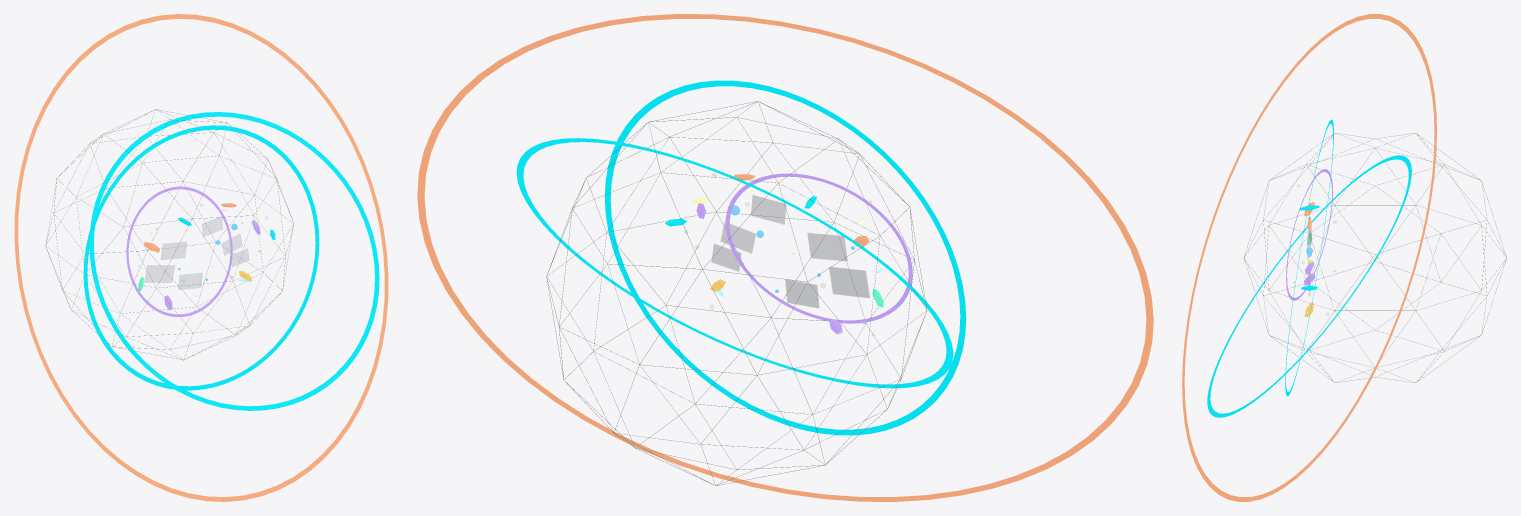
Rendered from widegy-scene.glb.
3 renders of one model, left to right at view 1: azimuth 30°, elevation 25°; view 2: azimuth 150°, elevation 25°; view 3: azimuth 270°, elevation 25°, orthographic. The views are drawn at different scales.
Visible parts, largest first — view 1: Ring_01, Ring_03, Ring_00, BackdropIcosa, Ring_02, GlassCard_04; view 2: Ring_01, BackdropIcosa, Ring_00, Ring_03, Ring_02, GlassCard_04, GlassCard_00; view 3: Ring_01, BackdropIcosa, Ring_03, Ring_00, Ring_02.
Part boxes in pixels (<box>): Ring_01: <box>14,14,388,501</box>; Ring_03: <box>89,112,379,410</box>; Ring_00: <box>83,125,319,390</box>; BackdropIcosa: <box>45,109,293,360</box>; Ring_02: <box>126,186,232,316</box>; GlassCard_04: <box>144,265,174,282</box>; Ring_01: <box>417,14,1153,501</box>; BackdropIcosa: <box>546,101,927,485</box>; Ring_00: <box>604,80,966,435</box>; Ring_03: <box>516,138,953,388</box>; Ring_02: <box>725,173,912,323</box>; GlassCard_04: <box>829,267,869,297</box>; GlassCard_00: <box>807,233,847,261</box>; Ring_01: <box>1182,14,1436,501</box>; BackdropIcosa: <box>1244,133,1506,382</box>; Ring_03: <box>1207,155,1411,417</box>; Ring_00: <box>1285,119,1333,396</box>; Ring_02: <box>1286,169,1332,300</box>.
Size of the model in its own units: 37.54 by 34.96 by 24.7.
